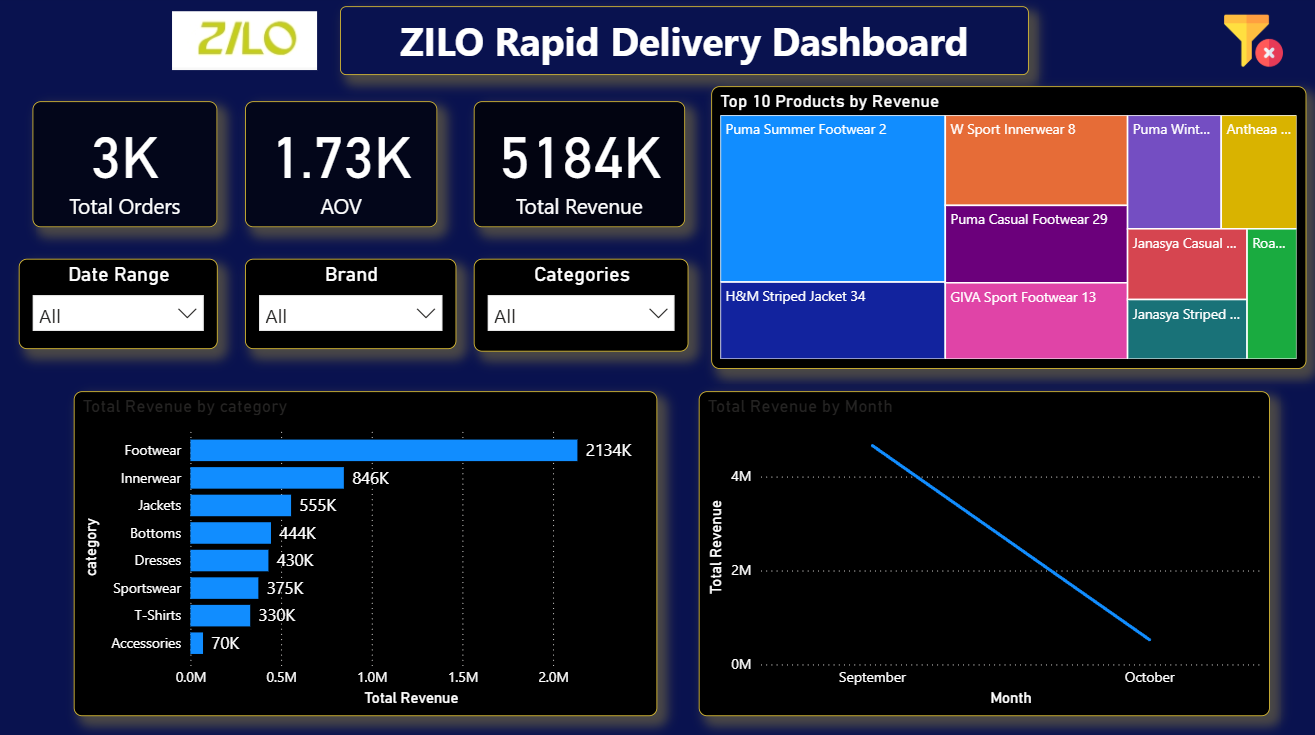

Layout of this report page (visuals, bound fields, positions):
{"tool":"powerbi","page":{"name":"Page 1","canvas":[1280,720],"ordinal":0},"visuals":[{"type":"card","fields":{"Values":["orders_clean.Total Orders"]},"box":[36.2,102.5,178.6,121.9],"z":0},{"type":"card","fields":{"Values":["orders_clean.Total Revenue"]},"box":[462.1,102.5,203.9,121.9],"z":1},{"type":"lineChart","fields":{"Y":["orders_clean.Total Revenue"],"Category":["orders_clean.order_date.Variation.Date Hierarchy.Month","orders_clean.order_date.Variation.Date Hierarchy.Day"]},"box":[679.2,382.4,551.3,313.7],"z":5},{"type":"textbox","box":[333,10.9,664.7,66.4],"z":6},{"type":"image","box":[160.5,10.9,160.5,66.4],"z":7},{"type":"barChart","fields":{"Category":["products_clean.category"],"Y":["orders_clean.Total Revenue"]},"box":[76,382.4,563.4,313.7],"z":8},{"type":"treemap","title":"Top 10 Products by Revenue","fields":{"Group":["top_products_by_revenue.product_name"],"Values":["orders_clean.Total Revenue"]},"box":[691.3,88.1,574.3,272.7],"z":9},{"type":"slicer","title":"Date Range","fields":{"Values":["orders_clean.order_date"]},"box":[22.9,254.6,191.8,86.9],"z":10},{"type":"slicer","title":"Categories","fields":{"Values":["products_clean.category"]},"box":[462.1,254.6,207.5,89.3],"z":11},{"type":"slicer","title":"Brand","fields":{"Values":["products_clean.brand"]},"box":[241.3,254.6,203.9,86.9],"z":12},{"type":"image","box":[1177.5,10.9,74.8,66.4],"z":13},{"type":"card","fields":{"Values":["orders_clean.AOV"]},"box":[241.3,102.5,185.8,121.9],"z":14}]}

Visuals, with their boxes in screenshot pixels (x1, y1, x2, y2), scaled from the page's 1280x720 canvas onto the 1315x735 screenshot:
card - orders_clean.Total Orders: BBox(37, 105, 221, 229)
card - orders_clean.Total Revenue: BBox(475, 105, 684, 229)
lineChart - orders_clean.Total Revenue x orders_clean.order_date.Variation.Date Hierarchy.Month: BBox(698, 390, 1264, 711)
textbox: BBox(342, 11, 1025, 79)
image: BBox(165, 11, 330, 79)
barChart - products_clean.category x orders_clean.Total Revenue: BBox(78, 390, 657, 711)
"Top 10 Products by Revenue" treemap: BBox(710, 90, 1300, 368)
"Date Range" slicer: BBox(24, 260, 221, 349)
"Categories" slicer: BBox(475, 260, 688, 351)
"Brand" slicer: BBox(248, 260, 457, 349)
image: BBox(1210, 11, 1287, 79)
card - orders_clean.AOV: BBox(248, 105, 439, 229)
